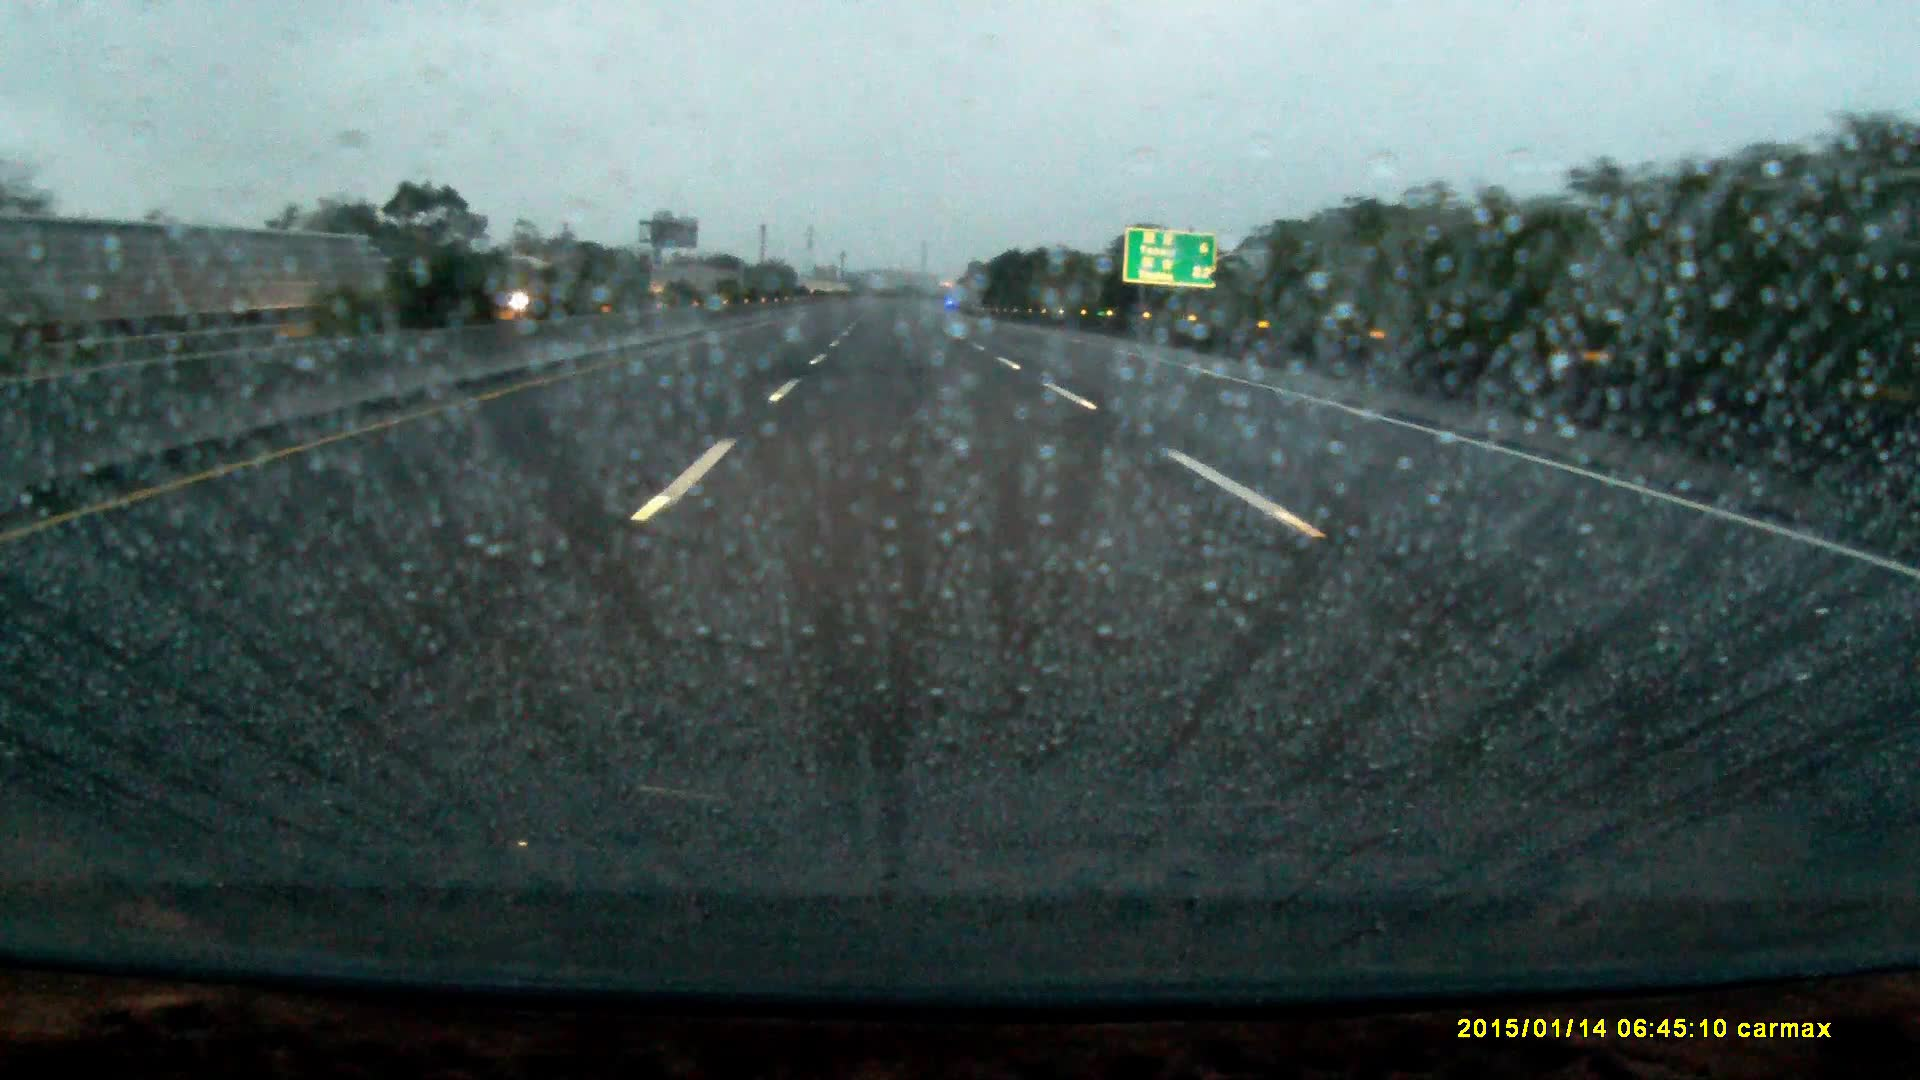vehicle: (477, 257, 576, 313)
